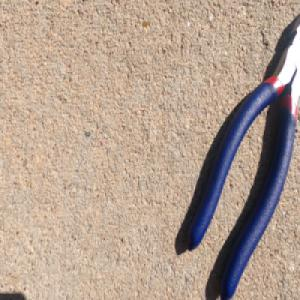Pliers: (185, 17, 300, 290)
